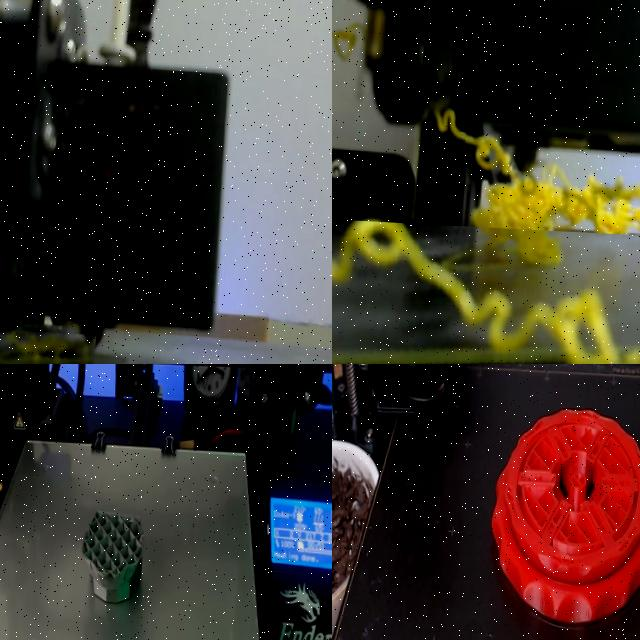spaghetti: (332, 221, 640, 364), (434, 109, 640, 294), (0, 331, 94, 364)
